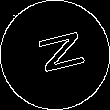N_W: (26, 30, 84, 80)
